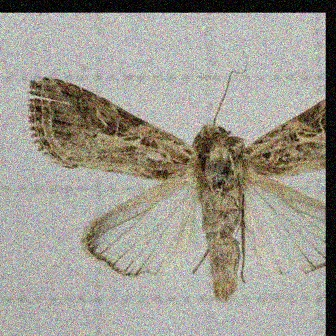Spodoptera litura: (26, 48, 324, 302)
